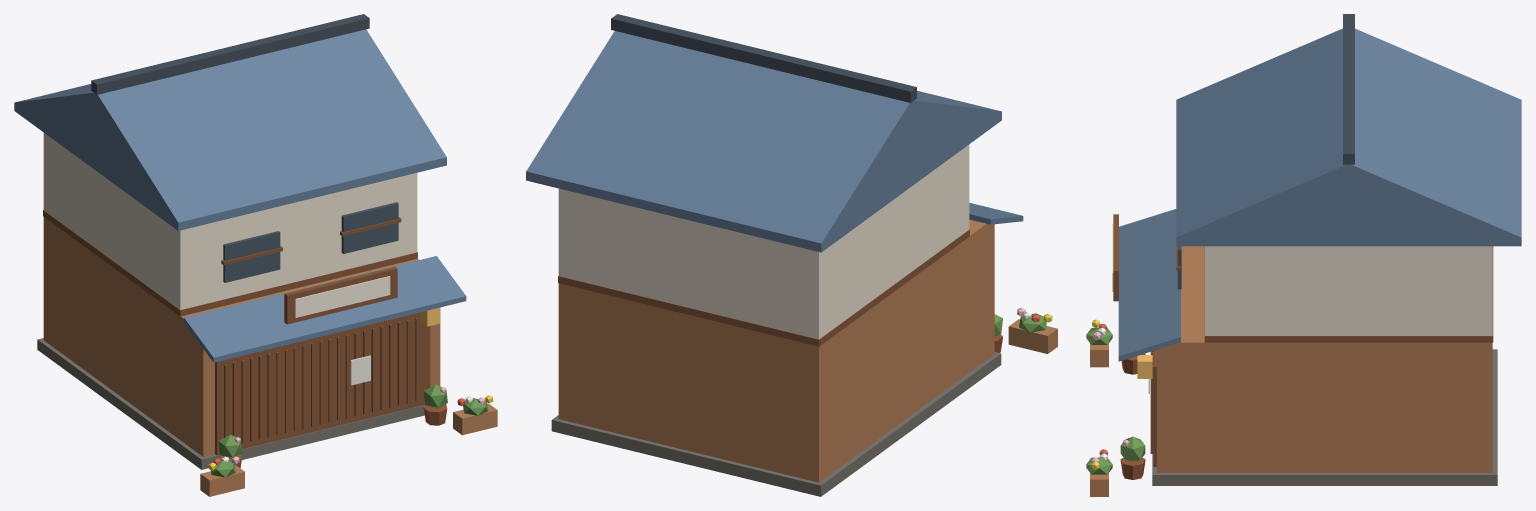
File: chizurudo_s1.fbx
3 views of the same model, side by side, from view 1: azimuth 30°, elevation 25°; view 2: azimuth 150°, elevation 25°; view 3: azimuth 270°, elevation 25° (orthographic). The views are drawn at different scales.
Visible parts, largest first — view 1: chizurudo_s1; view 2: chizurudo_s1; view 3: chizurudo_s1.
Boxes of the visible parts, bbox=[...] form: chizurudo_s1: bbox=[14, 14, 497, 496]; chizurudo_s1: bbox=[526, 14, 1057, 496]; chizurudo_s1: bbox=[1086, 14, 1521, 496].
Bounding box in the file's own units: 7.3 × 7.8 × 9.07.
2 materials, 2 textured.
